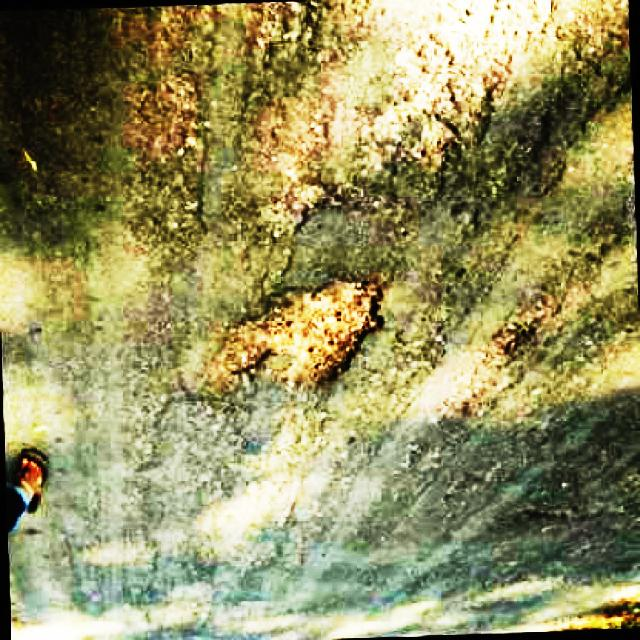pothole: (196, 268, 384, 383)
